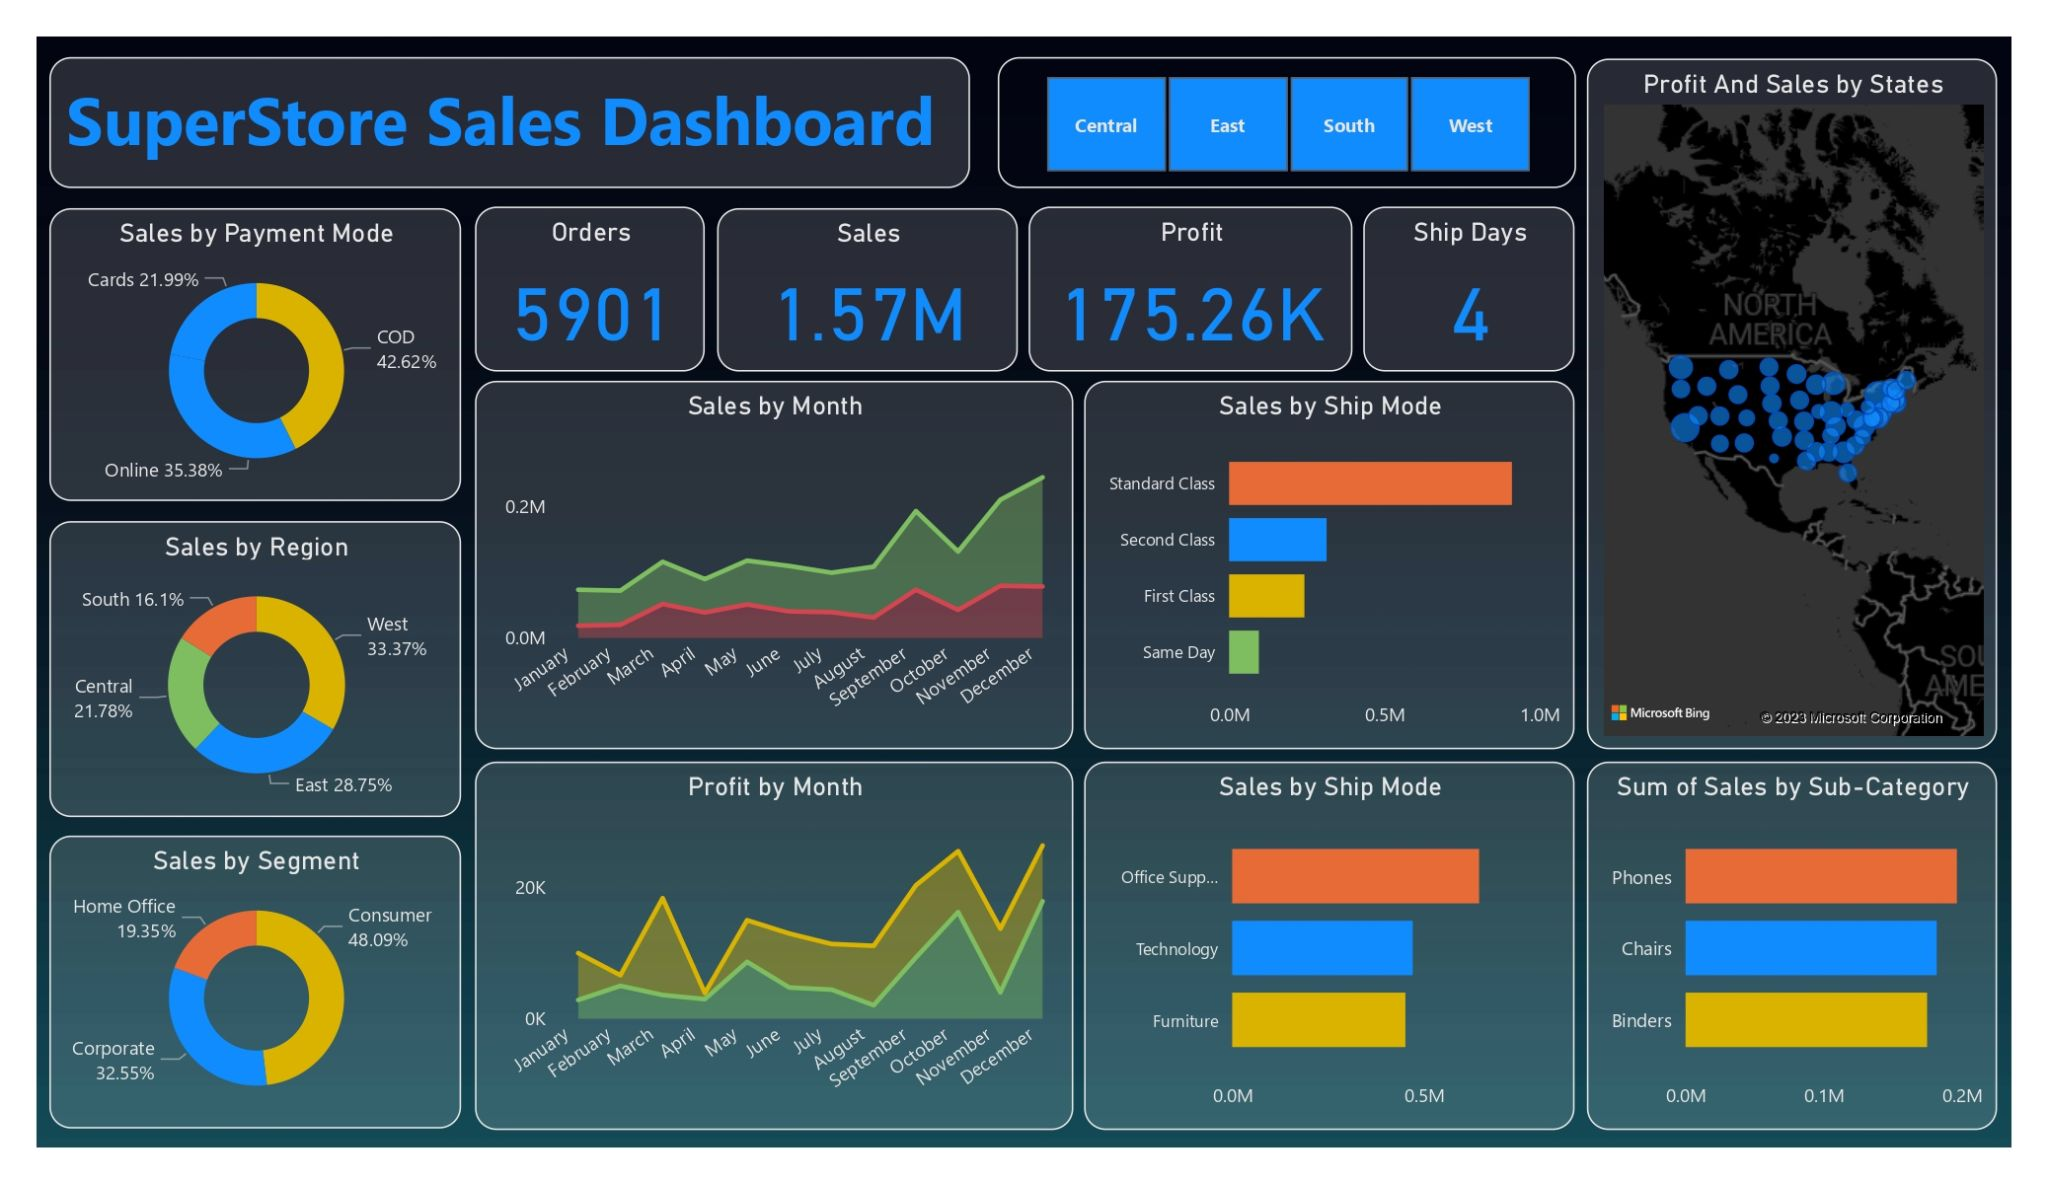

The dashboard page shown, as its layout file describes it:
{"tool":"powerbi","page":{"name":"Dashboard","canvas":[1280,720],"ordinal":0},"visuals":[{"type":"map","title":"Profit And Sales by States","fields":{"Category":["SuperStore_Sales_Dataset.State"],"Size":["Sum(SuperStore_Sales_Dataset.Profit)"]},"box":[1005,13.7,266,448.3],"z":0},{"type":"stackedAreaChart","title":"Sales by Month","fields":{"Category":["SuperStore_Sales_Dataset.Order Date.Variation.Date Hierarchy.Month","SuperStore_Sales_Dataset.Order Date.Variation.Date Hierarchy.Day"],"Series":["SuperStore_Sales_Dataset.Order Date.Variation.Date Hierarchy.Year"],"Y":["Sum(SuperStore_Sales_Dataset.Sales)"]},"box":[283.8,223.5,388,238.6],"z":1000},{"type":"stackedAreaChart","title":"Profit by Month","fields":{"Category":["SuperStore_Sales_Dataset.Order Date.Variation.Date Hierarchy.Month","SuperStore_Sales_Dataset.Order Date.Variation.Date Hierarchy.Day"],"Series":["SuperStore_Sales_Dataset.Order Date.Variation.Date Hierarchy.Year"],"Y":["Sum(SuperStore_Sales_Dataset.Profit)"]},"box":[283.8,470.3,388,238.6],"z":2000},{"type":"clusteredBarChart","fields":{"Category":["SuperStore_Sales_Dataset.Sub-Category"],"Y":["Sum(SuperStore_Sales_Dataset.Sales)"]},"box":[1005,470.3,266,238.6],"z":3000},{"type":"donutChart","title":"Sales by Payment Mode","fields":{"Y":["Sum(SuperStore_Sales_Dataset.Sales)"],"Category":["SuperStore_Sales_Dataset.Payment Mode"]},"box":[8.3,111,266.7,190],"z":4000},{"type":"donutChart","title":"Sales by Region","fields":{"Y":["Sum(SuperStore_Sales_Dataset.Sales)"],"Category":["SuperStore_Sales_Dataset.Region"]},"box":[8.3,314.3,266.7,191.7],"z":5000},{"type":"donutChart","title":"Sales by Segment","fields":{"Y":["Sum(SuperStore_Sales_Dataset.Sales)"],"Category":["SuperStore_Sales_Dataset.Segment"]},"box":[8.3,518.3,266.7,190],"z":6000},{"type":"barChart","title":"Sales by Ship Mode","fields":{"Y":["Sum(SuperStore_Sales_Dataset.Sales)"],"Category":["SuperStore_Sales_Dataset.Ship Mode"]},"box":[678.7,223.5,318.1,238.6],"z":7000},{"type":"slicer","fields":{"Values":["SuperStore_Sales_Dataset.Region"]},"box":[622.5,12.5,375,85],"z":8000},{"type":"barChart","title":"Sales by Ship Mode","fields":{"Y":["Sum(SuperStore_Sales_Dataset.Sales)"],"Category":["SuperStore_Sales_Dataset.Category"]},"box":[678.7,470.3,318.1,238.6],"z":9000},{"type":"card","title":"Ship Days","fields":{"Values":["Avg(SuperStore_Sales_Dataset.AvgDeliveryDays)"]},"box":[859.6,109.7,137.1,106.9],"z":10000},{"type":"card","title":"Profit","fields":{"Values":["Sum(SuperStore_Sales_Dataset.Profit)"]},"box":[643,109.7,209.8,106.9],"z":11000},{"type":"card","title":"Sales","fields":{"Values":["Sum(SuperStore_Sales_Dataset.Sales)"]},"box":[441.5,111.1,194.7,105.6],"z":12000},{"type":"card","title":"Orders","fields":{"Values":["CountNonNull(SuperStore_Sales_Dataset.Order ID)"]},"box":[283.8,109.7,149.4,106.9],"z":13000},{"type":"textbox","box":[8.3,13.3,596.7,85],"z":14000}]}

Visuals, with their boxes in screenshot pixels (x1, y1, x2, y2), scaled from the page's 1280x720 canvas onto the 2048x1184 screenshot:
"Profit And Sales by States" map: <region>1608, 23, 2034, 760</region>
"Sales by Month" stackedAreaChart: <region>454, 368, 1075, 760</region>
"Profit by Month" stackedAreaChart: <region>454, 773, 1075, 1166</region>
clusteredBarChart - SuperStore_Sales_Dataset.Sub-Category x Sum(SuperStore_Sales_Dataset.Sales): <region>1608, 773, 2034, 1166</region>
"Sales by Payment Mode" donutChart: <region>13, 183, 440, 495</region>
"Sales by Region" donutChart: <region>13, 517, 440, 832</region>
"Sales by Segment" donutChart: <region>13, 852, 440, 1165</region>
"Sales by Ship Mode" barChart: <region>1086, 368, 1595, 760</region>
slicer - SuperStore_Sales_Dataset.Region: <region>996, 21, 1596, 160</region>
"Sales by Ship Mode" barChart: <region>1086, 773, 1595, 1166</region>
"Ship Days" card: <region>1375, 180, 1595, 356</region>
"Profit" card: <region>1029, 180, 1364, 356</region>
"Sales" card: <region>706, 183, 1018, 356</region>
"Orders" card: <region>454, 180, 693, 356</region>
textbox: <region>13, 22, 968, 162</region>
